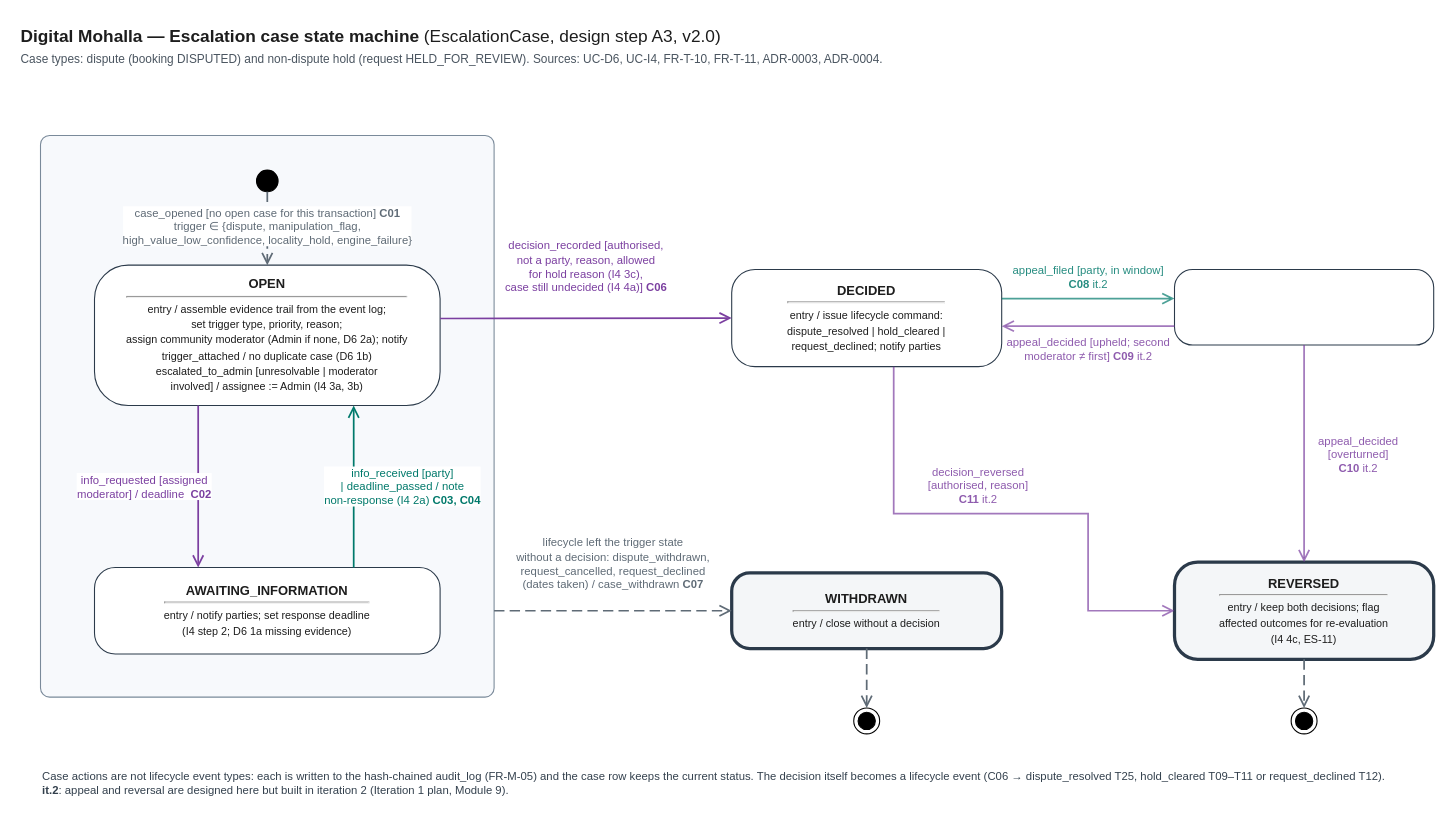
This 1454x823 diagram has some shape labels left out. The shapes that lost their labels are listed below. From the top down, each one's box as (x1, y1, x2, y2) in pixels, then its label:
(1173, 268, 1434, 345): APPEALED second moderator reviews (I4 4b)
(39, 134, 494, 697): UNDECIDED
